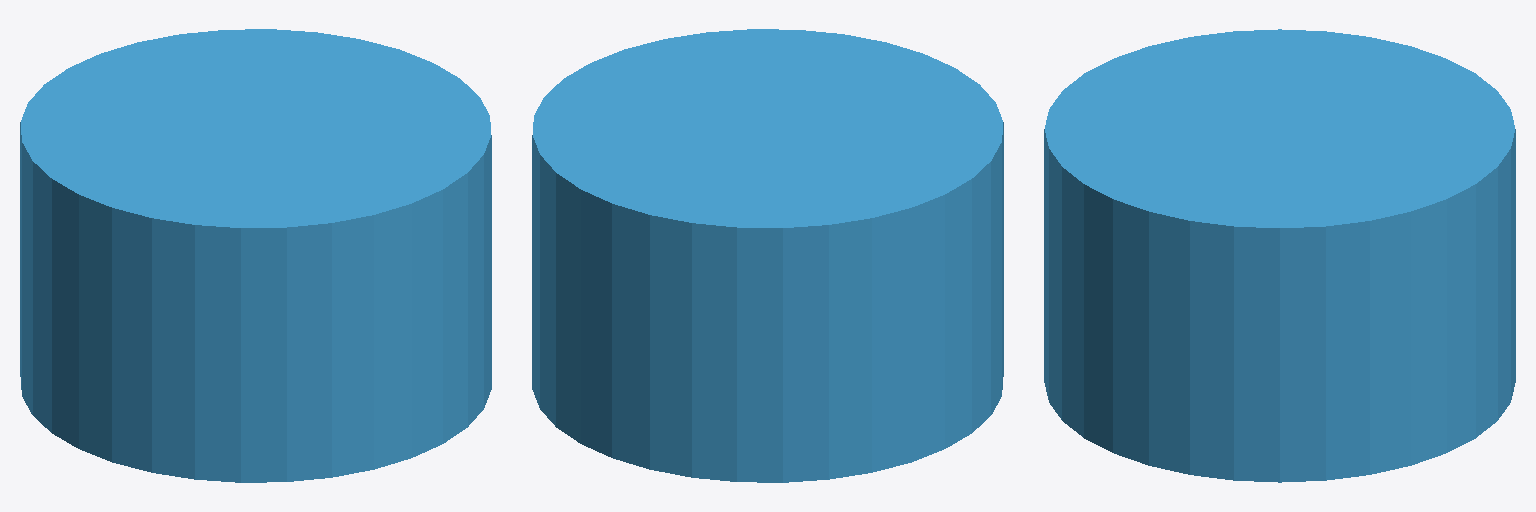
The robot description file, URDF, robot "abb_irb140":
<?xml version="1.0" ?>
<!-- =================================================================================== -->
<!-- |    This document was autogenerated by xacro from irb140.xacro                   | -->
<!-- |    EDITING THIS FILE BY HAND IS NOT RECOMMENDED                                 | -->
<!-- =================================================================================== -->
<robot name="abb_irb140" xmlns:xacro="http://ros.org/wiki/xacro">
    <!-- link list -->
    <link name="base_link">
        <visual>
            <origin rpy="0 0 0" xyz="0 0 0" />
            <geometry>
                <mesh filename="package://abb_irb140_support/meshes/irb140/visual/base_link.stl" scale="0.01 0.01 0.01" />
            </geometry>
            <material name="abb_orange">
                <color rgba="1 0.43 0 1" />
            </material>
        </visual>
        <collision>
            <geometry>
                <mesh filename="package://abb_irb140_support/meshes/irb140/collision/base_link.stl" scale="0.01 0.01 0.01" />
            </geometry>
            <material name="yellow">
                <color rgba="0 1 1 1" />
            </material>
        </collision>
        <inertial>
            <mass value="0.1" />
            <origin xyz="0 0 0" rpy="0 0 0" />
            <inertia ixx="0.03" iyy="0.03" izz="0.03" ixy="0.0" ixz="0.0" iyz="0.0" />
        </inertial>
    </link>
    <link name="link_1">
        <visual>
            <origin rpy="0 0 0" xyz="0 0 0" />
            <geometry>
                <mesh filename="package://abb_irb140_support/meshes/irb140/visual/link_1.stl" scale="0.01 0.01 0.01" />
            </geometry>
            <material name="abb_orange" />
        </visual>
        <collision>
            <origin rpy="0 0 0" xyz="0 0 0" />
            <geometry>
                <mesh filename="package://abb_irb140_support/meshes/irb140/collision/link_1.stl" scale="0.01 0.01 0.01" />
            </geometry>
            <material name="yellow" />
        </collision>
        <inertial>
            <mass value="0.1" />
            <origin xyz="0 0 0" rpy="0 0 0" />
            <inertia ixx="0.03" iyy="0.03" izz="0.03" ixy="0.0" ixz="0.0" iyz="0.0" />
        </inertial>
    </link>
    <link name="link_2">
        <visual>
            <origin rpy="0 0 0" xyz="-0.07 0 -0.352" />
            <geometry>
                <mesh filename="package://abb_irb140_support/meshes/irb140/visual/link_2.stl" scale="0.01 0.01 0.01" />
            </geometry>
            <material name="abb_orange" />
        </visual>
        <collision>
            <origin rpy="0 0 0" xyz="-0.07 0 -0.352" />
            <geometry>
                <mesh filename="package://abb_irb140_support/meshes/irb140/collision/link_2.stl" scale="0.01 0.01 0.01" />
            </geometry>
            <material name="yellow" />
        </collision>
        <inertial>
            <mass value="0.1" />
            <origin xyz="0 0 0" rpy="0 0 0" />
            <inertia ixx="0.03" iyy="0.03" izz="0.03" ixy="0.0" ixz="0.0" iyz="0.0" />
        </inertial>
    </link>
    <link name="link_3">
        <visual>
            <origin rpy="0 0 0" xyz="-0.07 0.065 -0.712" />
            <geometry>
                <mesh filename="package://abb_irb140_support/meshes/irb140/visual/link_3.stl" scale="0.01 0.01 0.01" />
            </geometry>
            <material name="abb_orange" />
        </visual>
        <collision>
            <origin rpy="0 0 0" xyz="-0.07 0.065 -0.712" />
            <geometry>
                <mesh filename="package://abb_irb140_support/meshes/irb140/collision/link_3.stl" scale="0.01 0.01 0.01" />
            </geometry>
            <material name="yellow" />
        </collision>
        <inertial>
            <mass value="0.1" />
            <origin xyz="0 0 0" rpy="0 0 0" />
            <inertia ixx="0.03" iyy="0.03" izz="0.03" ixy="0.0" ixz="0.0" iyz="0.0" />
        </inertial>
    </link>
    <link name="link_4">
        <visual>
            <origin rpy="0 0 0" xyz="-0.309 0 -0.712" />
            <geometry>
                <mesh filename="package://abb_irb140_support/meshes/irb140/visual/link_4.stl" scale="0.01 0.01 0.01" />
            </geometry>
            <material name="abb_orange" />
        </visual>
        <collision>
            <origin rpy="0 0 0" xyz="-0.309 0 -0.712" />
            <geometry>
                <mesh filename="package://abb_irb140_support/meshes/irb140/collision/link_4.stl" scale="0.01 0.01 0.01" />
            </geometry>
            <material name="yellow" />
        </collision>
        <inertial>
            <mass value="0.1" />
            <origin xyz="0 0 0" rpy="0 0 0" />
            <inertia ixx="0.03" iyy="0.03" izz="0.03" ixy="0.0" ixz="0.0" iyz="0.0" />
        </inertial>
    </link>
    <link name="link_5">
        <visual>
            <origin rpy="0 0 0" xyz="-0.450 0 -0.712" />
            <geometry>
                <mesh filename="package://abb_irb140_support/meshes/irb140/visual/link_5.stl" scale="0.01 0.01 0.01" />
            </geometry>
            <material name="abb_orange" />
        </visual>
        <collision>
            <origin rpy="0 0 0" xyz="-0.450 0 -0.712" />
            <geometry>
                <mesh filename="package://abb_irb140_support/meshes/irb140/collision/link_5.stl" scale="0.01 0.01 0.01" />
            </geometry>
            <material name="yellow" />
        </collision>
        <inertial>
            <mass value="0.1" />
            <origin xyz="0 0 0" rpy="0 0 0" />
            <inertia ixx="0.03" iyy="0.03" izz="0.03" ixy="0.0" ixz="0.0" iyz="0.0" />
        </inertial>
    </link>
    <link name="link_6">
        <visual>
            <origin rpy="0 0 0" xyz="-0.515 0 -0.712" />
            <geometry>
                <mesh filename="package://abb_irb140_support/meshes/irb140/visual/link_6.stl" scale="0.01 0.01 0.01" />
            </geometry>
            <material name="abb_orange" />
        </visual>
        <collision>
            <origin rpy="0 0 0" xyz="-0.515 0 -0.712" />
            <geometry>
                <mesh filename="package://abb_irb140_support/meshes/irb140/collision/link_6.stl" scale="0.01 0.01 0.01" />
            </geometry>
            <material name="yellow" />
        </collision>
        <inertial>
            <mass value="0.1" />
            <origin xyz="0 0 0" rpy="0 0 0" />
            <inertia ixx="0.03" iyy="0.03" izz="0.03" ixy="0.0" ixz="0.0" iyz="0.0" />
        </inertial>
    </link>
    <link name="tool0" />
    <!-- end of link list -->
    <!-- joint list -->
    <joint name="joint_1" type="revolute">
        <origin rpy="0 0 0" xyz="0 0 0" />
        <parent link="base_link" />
        <child link="link_1" />
        <axis xyz="0 0 1" />
        <limit effort="0" lower="-3.1416" upper="3.1416" velocity="3.4907" />
    </joint>
    <joint name="joint_2" type="revolute">
        <origin rpy="0 0 0" xyz="0.070 0 0.352" />
        <parent link="link_1" />
        <child link="link_2" />
        <axis xyz="0 1 0" />
        <limit effort="0" lower="-1.5708" upper="1.9199" velocity="3.4907" />
    </joint>
    <joint name="joint_3" type="revolute">
        <origin rpy="0 0 0" xyz="0 -0.065 0.360" />
        <parent link="link_2" />
        <child link="link_3" />
        <axis xyz="0 1 0" />
        <limit effort="0" lower="-4.0143" upper="0.87274434" velocity="4.5379" />
    </joint>
    <joint name="joint_4" type="revolute">
        <origin rpy="0 0 0" xyz="0.239 0.065 0" />
        <parent link="link_3" />
        <child link="link_4" />
        <axis xyz="1 0 0" />
        <limit effort="0" lower="-3.4907" upper="3.4907" velocity="6.2832" />
    </joint>
    <joint name="joint_5" type="revolute">
        <origin rpy="0 0 0" xyz="0.141 0 0" />
        <parent link="link_4" />
        <child link="link_5" />
        <axis xyz="0 1 0" />
        <limit effort="0" lower="-2.0071" upper="2.0071" velocity="6.2832" />
    </joint>
    <joint name="joint_6" type="revolute">
        <origin rpy="0 0 0" xyz="0.065 0 0" />
        <parent link="link_5" />
        <child link="link_6" />
        <axis xyz="1 0 0" />
        <limit effort="0" lower="-6.9813" upper="6.9813" velocity="7.854" />
    </joint>
    <joint name="joint_6-tool0" type="fixed">
        <parent link="link_6" />
        <child link="tool0" />
        <origin rpy="0 0 0" xyz="0 0 0" />
    </joint>
    <!-- end of joint list -->
    <!-- ROS base_link to ABB World Coordinates transform -->
    <link name="base" />
    <joint name="base_link-base" type="fixed">
        <origin rpy="0 0 0" xyz="0 0 0" />
        <parent link="base_link" />
        <child link="base" />
    </joint>
    <link name="obj_position_link">
        <visual>
            <origin rpy="0 1.5708 0" xyz="-0.125 0 0" />
            <geometry>
                <cylinder radius="0.21" length="0.25" />
            </geometry>
            <material name="blue" />
        </visual>
        <collision>
            <origin rpy="0 1.5708 0" xyz="-0.125 0 0" />
            <geometry>
                <cylinder radius="0.21" length="0.25" />
            </geometry>
            <material name="blue" />
        </collision>
        <inertial>
            <mass value="0.1" />
            <origin xyz="0 0 0" rpy="0 0 0" />
            <inertia ixx="0.03" iyy="0.03" izz="0.03" ixy="0.0" ixz="0.0" iyz="0.0" />
        </inertial>
    </link>
    <joint name="base_link-obj_position_link" type="fixed">
        <origin rpy="0 1.5708 0" xyz="0.5 0 0" />
        <parent link="base_link" />
        <child link="obj_position_link" />
    </joint>
    <transmission name="trans_joint_1">
        <type>transmission_interface/SimpleTransmission</type>
        <joint name="joint_1">
            <hardwareInterface>hardware_interface/EffortJointInterface</hardwareInterface>
        </joint>
        <actuator name="joint_1_motor">
            <hardwareInterface>hardware_interface/EffortJointInterface</hardwareInterface>
            <mechanicalReduction>1</mechanicalReduction>
        </actuator>
    </transmission>
    <transmission name="trans_joint_2">
        <type>transmission_interface/SimpleTransmission</type>
        <joint name="joint_2">
            <hardwareInterface>hardware_interface/EffortJointInterface</hardwareInterface>
        </joint>
        <actuator name="joint_2_motor">
            <hardwareInterface>hardware_interface/EffortJointInterface</hardwareInterface>
            <mechanicalReduction>1</mechanicalReduction>
        </actuator>
    </transmission>
    <transmission name="trans_joint_3">
        <type>transmission_interface/SimpleTransmission</type>
        <joint name="joint_3">
            <hardwareInterface>hardware_interface/EffortJointInterface</hardwareInterface>
        </joint>
        <actuator name="joint_3_motor">
            <hardwareInterface>hardware_interface/EffortJointInterface</hardwareInterface>
            <mechanicalReduction>1</mechanicalReduction>
        </actuator>
    </transmission>
    <transmission name="trans_joint_4">
        <type>transmission_interface/SimpleTransmission</type>
        <joint name="joint_4">
            <hardwareInterface>hardware_interface/EffortJointInterface</hardwareInterface>
        </joint>
        <actuator name="joint_4_motor">
            <hardwareInterface>hardware_interface/EffortJointInterface</hardwareInterface>
            <mechanicalReduction>1</mechanicalReduction>
        </actuator>
    </transmission>
    <transmission name="trans_joint_5">
        <type>transmission_interface/SimpleTransmission</type>
        <joint name="joint_5">
            <hardwareInterface>hardware_interface/EffortJointInterface</hardwareInterface>
        </joint>
        <actuator name="joint_5_motor">
            <hardwareInterface>hardware_interface/EffortJointInterface</hardwareInterface>
            <mechanicalReduction>1</mechanicalReduction>
        </actuator>
    </transmission>
    <transmission name="trans_joint_6">
        <type>transmission_interface/SimpleTransmission</type>
        <joint name="joint_6">
            <hardwareInterface>hardware_interface/EffortJointInterface</hardwareInterface>
        </joint>
        <actuator name="joint_6_motor">
            <hardwareInterface>hardware_interface/EffortJointInterface</hardwareInterface>
            <mechanicalReduction>1</mechanicalReduction>
        </actuator>
    </transmission>
    <gazebo>
        <plugin name="gazebo_ros_control">
            <robotNamespace>/</robotNamespace>
        </plugin>
    </gazebo>
</robot>

--- Render facts (derived) ---
3 views of the same robot in one strip: view 1: azimuth 30°, elevation 25°; view 2: azimuth 150°, elevation 25°; view 3: azimuth 270°, elevation 25° (orthographic).
Robot: abb_irb140 — 10 links, 9 joints (6 revolute, 3 fixed); root link base_link; default pose: every joint at zero.
Visible links, largest first — view 1: obj_position_link; view 2: obj_position_link; view 3: obj_position_link.
Boxes of the visible links, left/top/right/bottom form: obj_position_link: left=20, top=29, right=491, bottom=482; obj_position_link: left=532, top=29, right=1003, bottom=482; obj_position_link: left=1044, top=29, right=1515, bottom=482.
Bounding box of the posed robot: 0.42 × 0.42 × 0.25 m (x, y, z).
0 mesh visuals loaded from 7 distinct referenced files (none loaded); not drawn: 7 (reference not matched to a file when rendering).